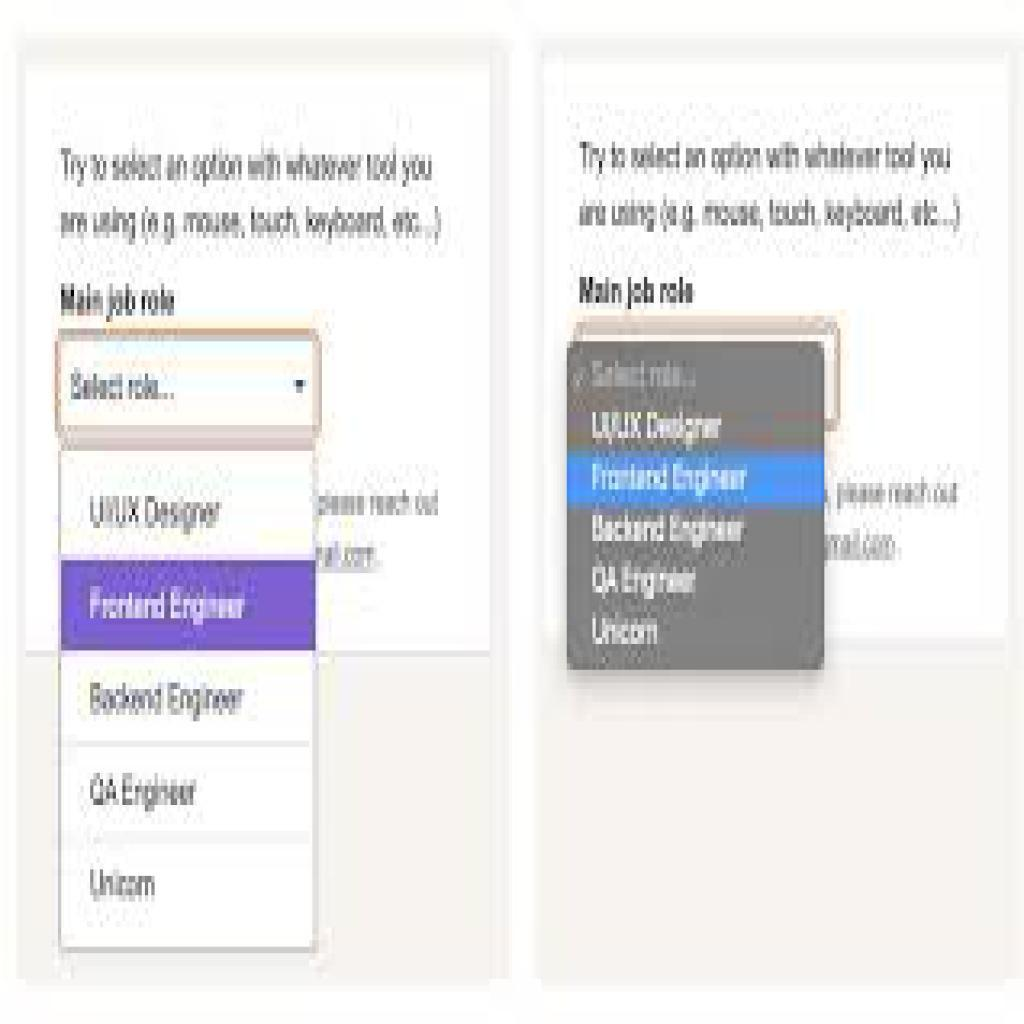button: (61, 561, 316, 652)
dropdown: (56, 335, 317, 430)
